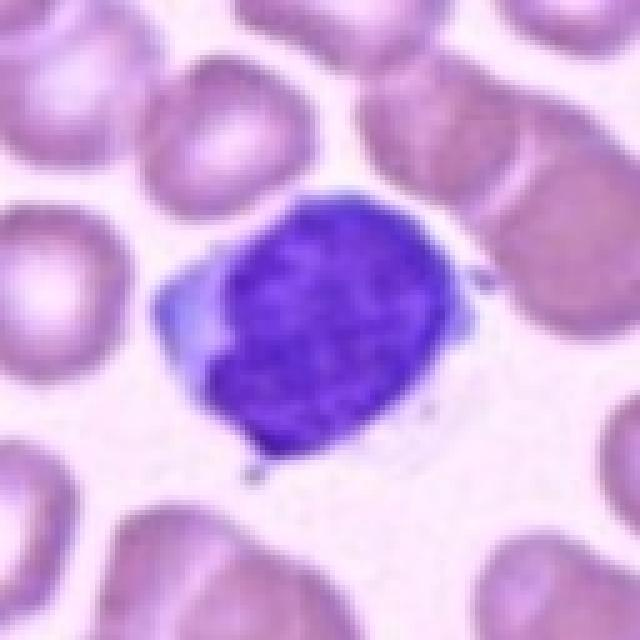lympho: (138, 179, 493, 475)
